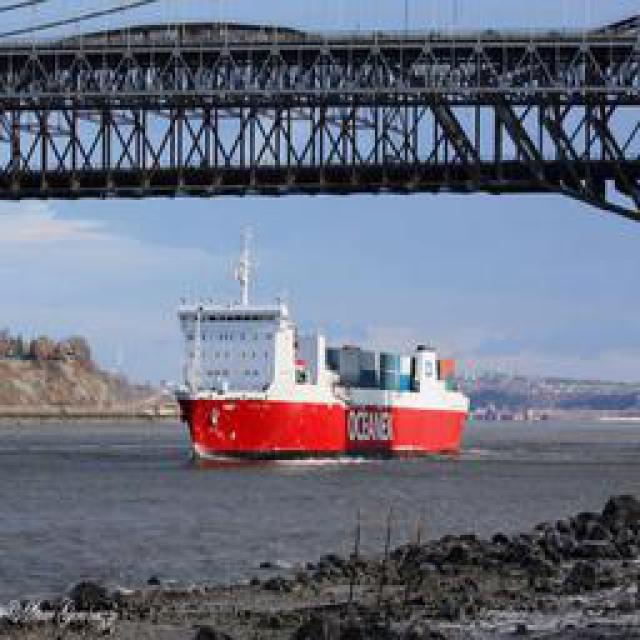Ship: (167, 236, 475, 466)
